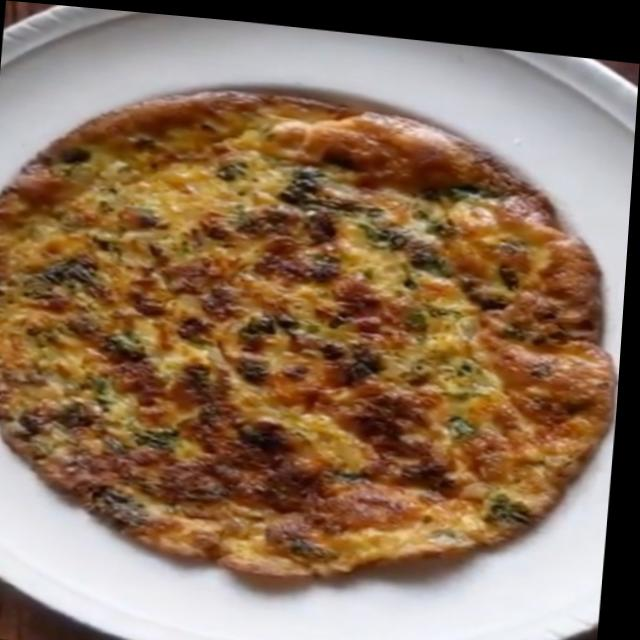DOSA: (0, 90, 612, 580)
